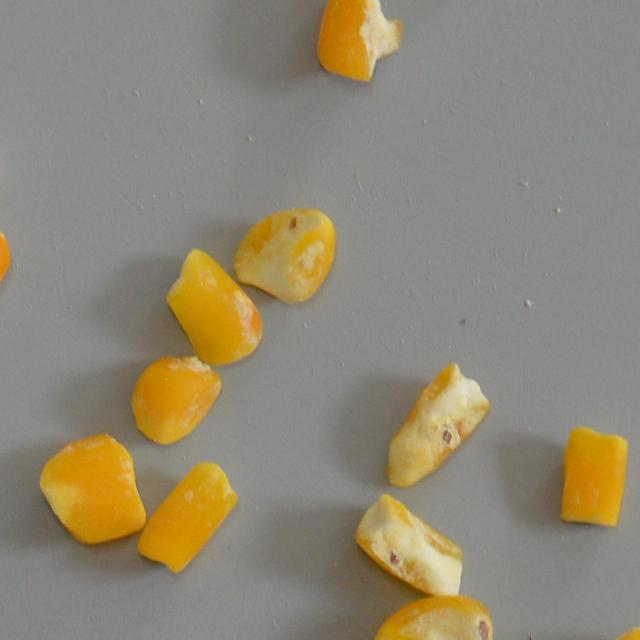dañado: (378, 358, 495, 495), (352, 491, 464, 601), (230, 206, 338, 304), (372, 594, 498, 640), (0, 202, 27, 318)
estandar: (148, 459, 230, 578), (552, 416, 632, 534)
pelicula: (39, 426, 148, 544), (166, 248, 266, 367), (125, 354, 226, 450), (317, 0, 406, 80)
